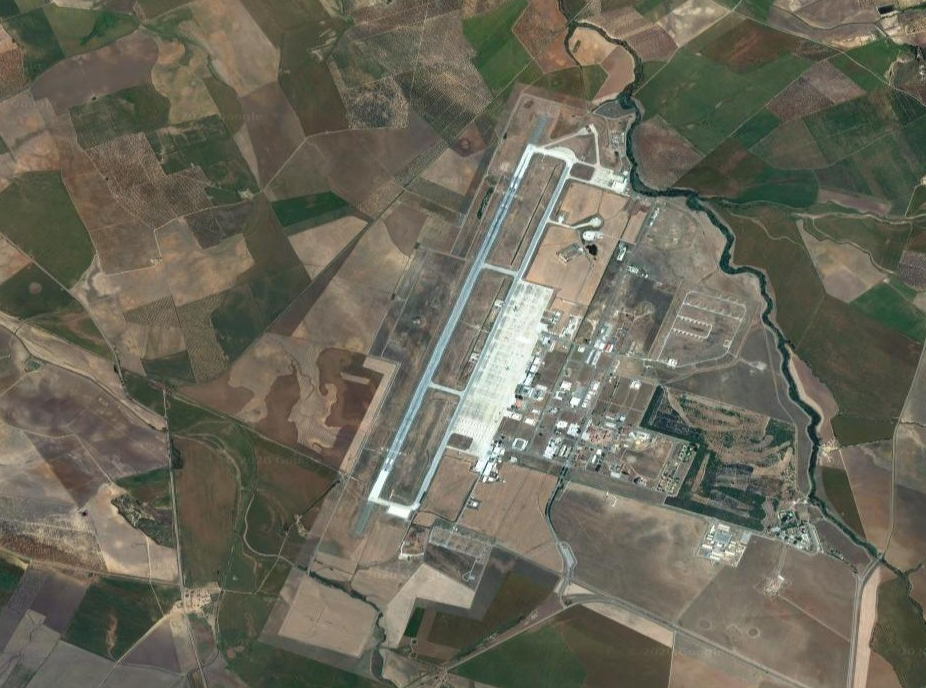airport: (352, 112, 631, 535)
motorway: (495, 608, 561, 643), (430, 641, 496, 676), (561, 590, 642, 616), (839, 604, 862, 688), (851, 556, 881, 604), (748, 664, 806, 688), (694, 637, 745, 664), (643, 612, 694, 639)
